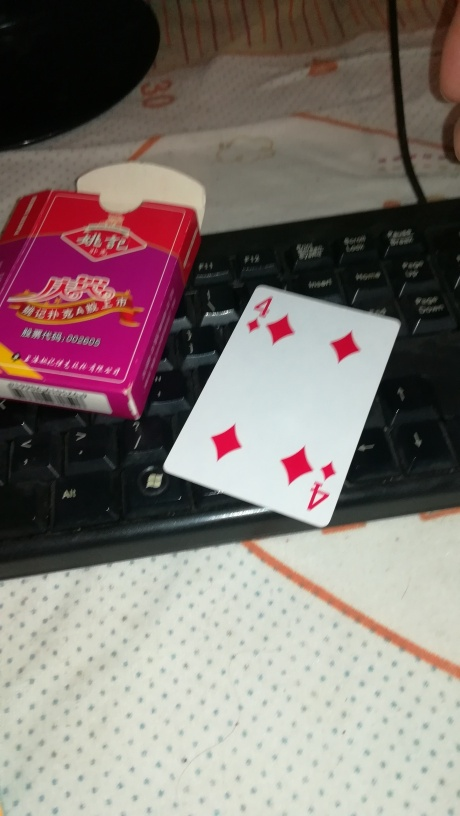fk 4: (160, 282, 403, 530)
